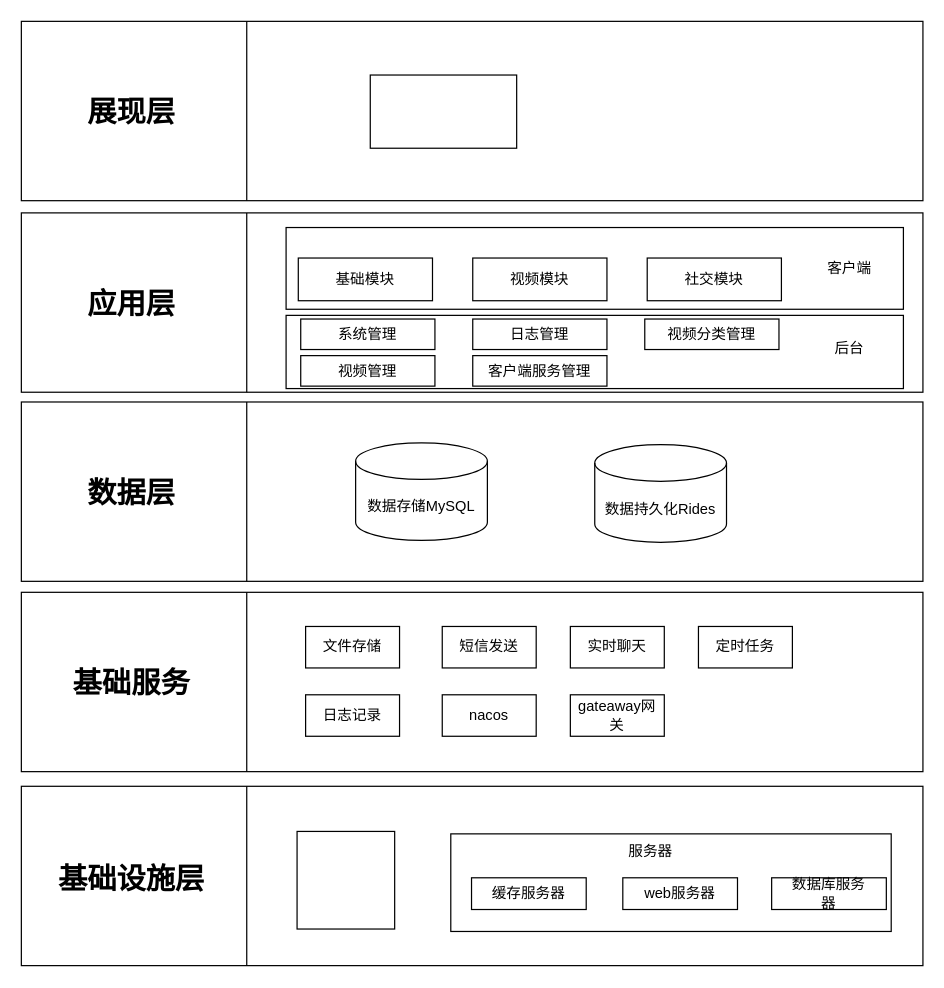
Some shapes in this 944 by 988 pixel diagram are drawn without their labels. Here are the shapes that lost their labels. From the top down, the box of each, then its label:
(369, 74, 517, 148): PC浏览器
(296, 830, 395, 929): 网络
